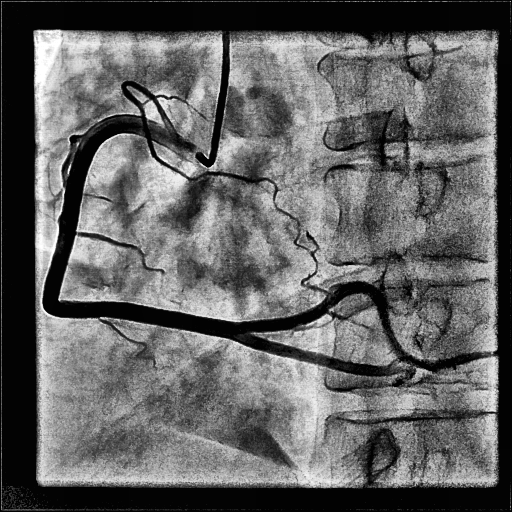pborca: (238, 281, 498, 371)
pda: (237, 332, 412, 376)
rca: (43, 114, 239, 340)
